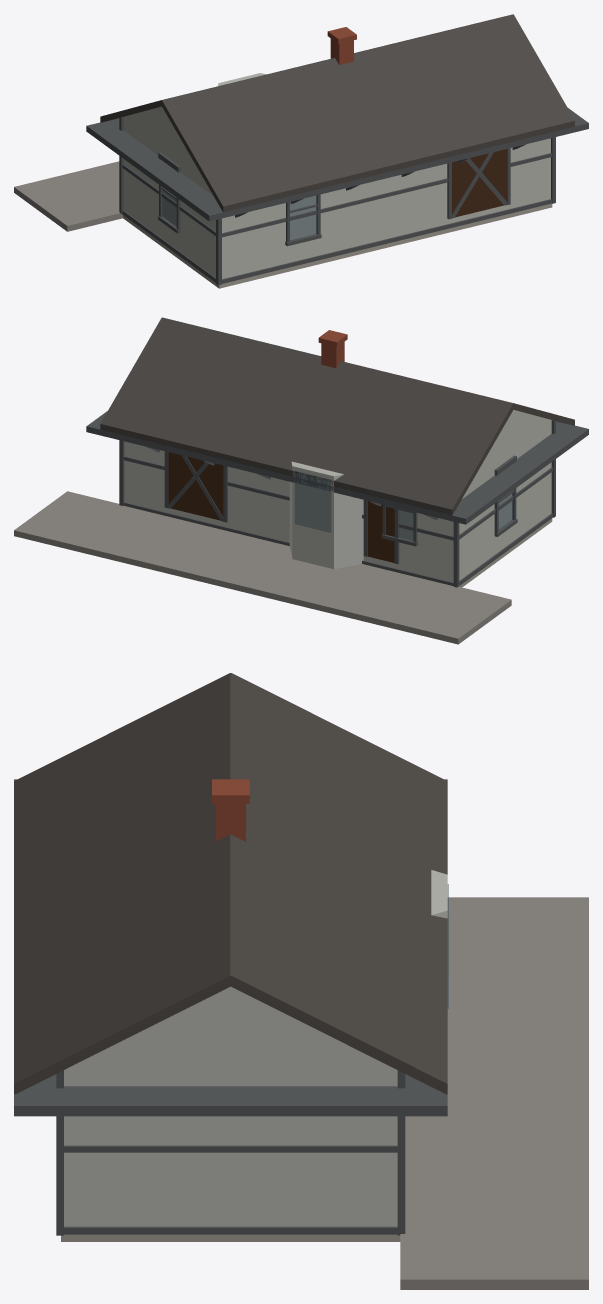
The model's file is Standard_03_Depot.glb.
3 renders of one model, top to bottom at view 1: azimuth 30°, elevation 25°; view 2: azimuth 150°, elevation 25°; view 3: azimuth 270°, elevation 25°, orthographic. The views are drawn at different scales.
Visible parts, largest first — view 1: roof, walls, trim, platform, doors, foundation, sash, glass, chimney; view 2: roof, platform, walls, trim, doors, glass, sash, chimney; view 3: roof, platform, walls, trim, foundation, chimney.
Part boxes in pixels (left/top/right/bottom): roof: left=100, top=14, right=574, bottom=212; walls: left=123, top=73, right=550, bottom=279; trim: left=86, top=107, right=588, bottom=285; platform: left=14, top=161, right=122, bottom=231; doors: left=452, top=149, right=506, bottom=217; foundation: left=123, top=203, right=552, bottom=288; sash: left=158, top=152, right=321, bottom=246; glass: left=162, top=190, right=316, bottom=240; chimney: left=327, top=27, right=356, bottom=64; roof: left=100, top=317, right=574, bottom=515; platform: left=14, top=491, right=511, bottom=644; walls: left=124, top=409, right=551, bottom=582; trim: left=86, top=411, right=588, bottom=587; doors: left=168, top=452, right=394, bottom=562; glass: left=295, top=471, right=512, bottom=540; sash: left=381, top=455, right=517, bottom=546; chimney: left=318, top=330, right=347, bottom=367; roof: left=14, top=673, right=447, bottom=1094; platform: left=400, top=897, right=588, bottom=1289; walls: left=64, top=870, right=447, bottom=1226; trim: left=14, top=779, right=447, bottom=1235; foundation: left=61, top=1234, right=400, bottom=1241; chimney: left=212, top=779, right=249, bottom=841.
Size of the model in its own units: 0.5045 by 0.1939 by 0.3206.
